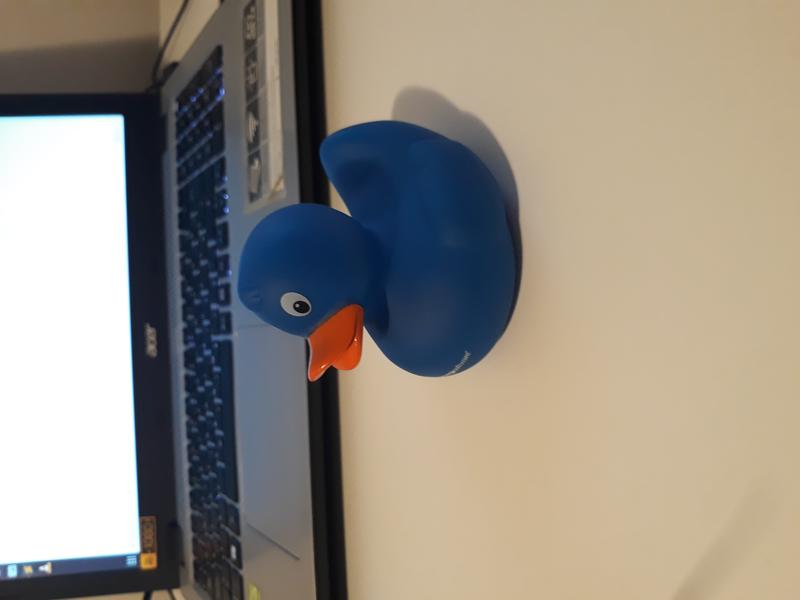plava_patkica: (217, 98, 518, 385)
